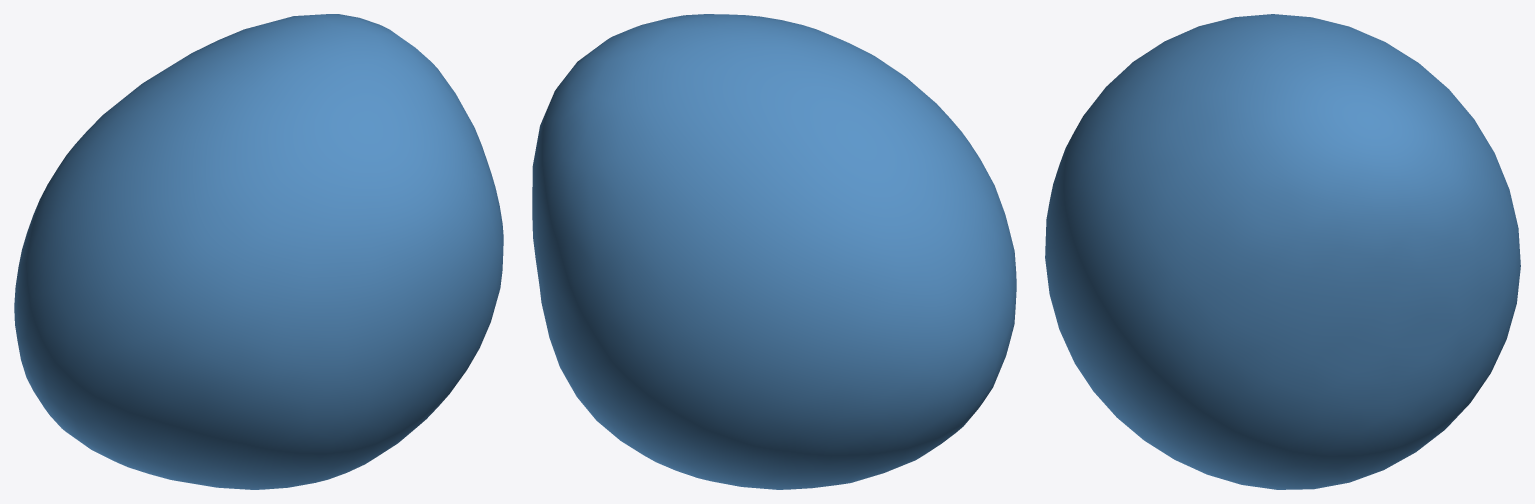
File: Vakuola_high.fbx
3 renders of one model, left to right at view 1: azimuth 30°, elevation 25°; view 2: azimuth 150°, elevation 25°; view 3: azimuth 270°, elevation 25°, orthographic. The views are drawn at different scales.
Parts seen in each view (by area): view 1: Vakuola; view 2: Vakuola; view 3: Vakuola.
Part boxes in pixels (x1=…): Vakuola: x1=14, y1=14, x2=503, y2=489; Vakuola: x1=532, y1=14, x2=1016, y2=489; Vakuola: x1=1045, y1=14, x2=1520, y2=489.
Size of the model in its own units: 232 by 217 by 211.
